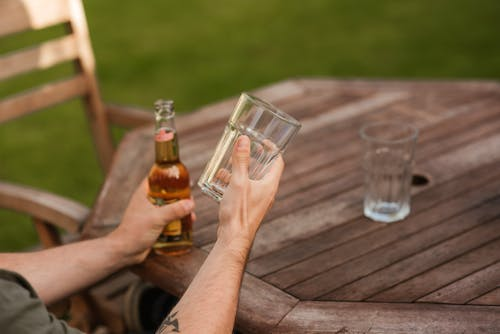alcohol: (147, 98, 194, 257)
